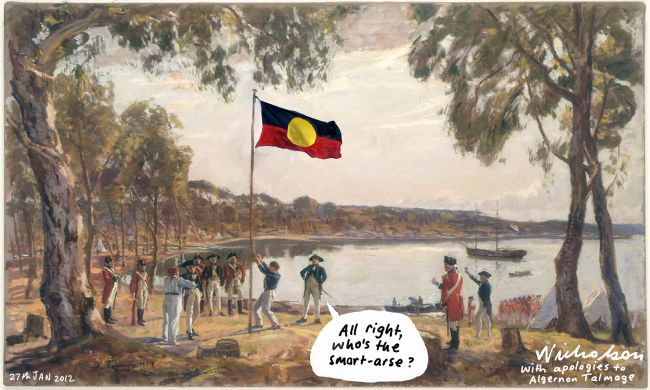aboriginal_flag: (251, 96, 346, 163)
